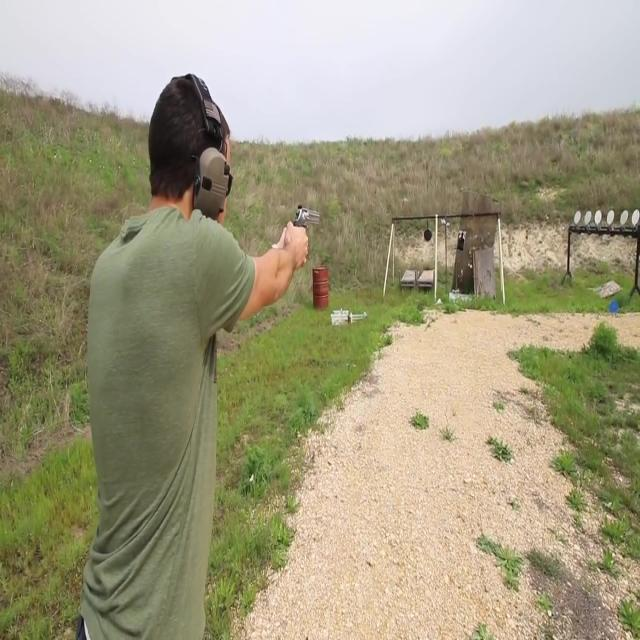Weapon: (279, 164, 339, 272)
